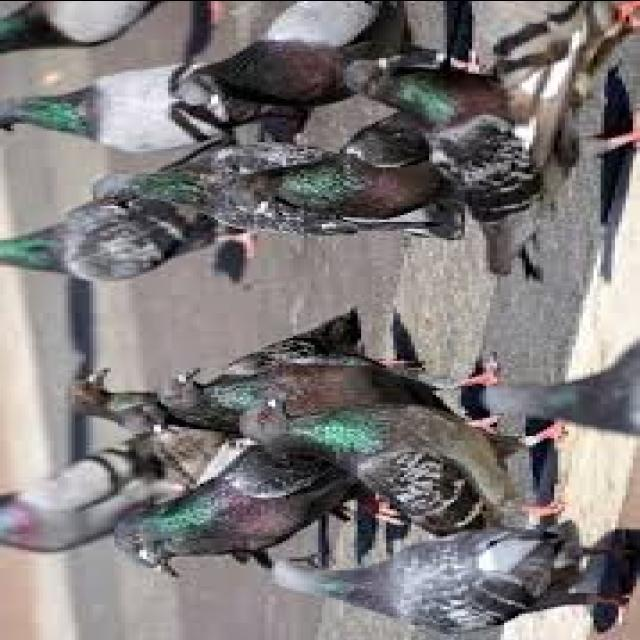pigeon: (234, 358, 532, 538)
